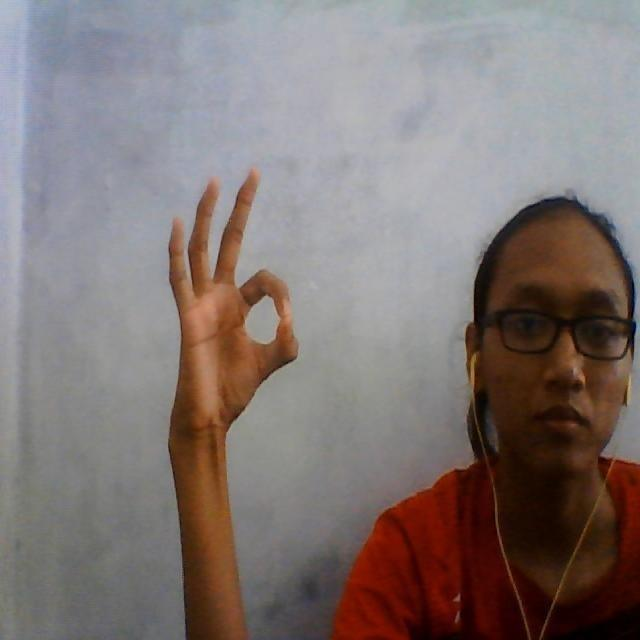O: (158, 163, 308, 408)
